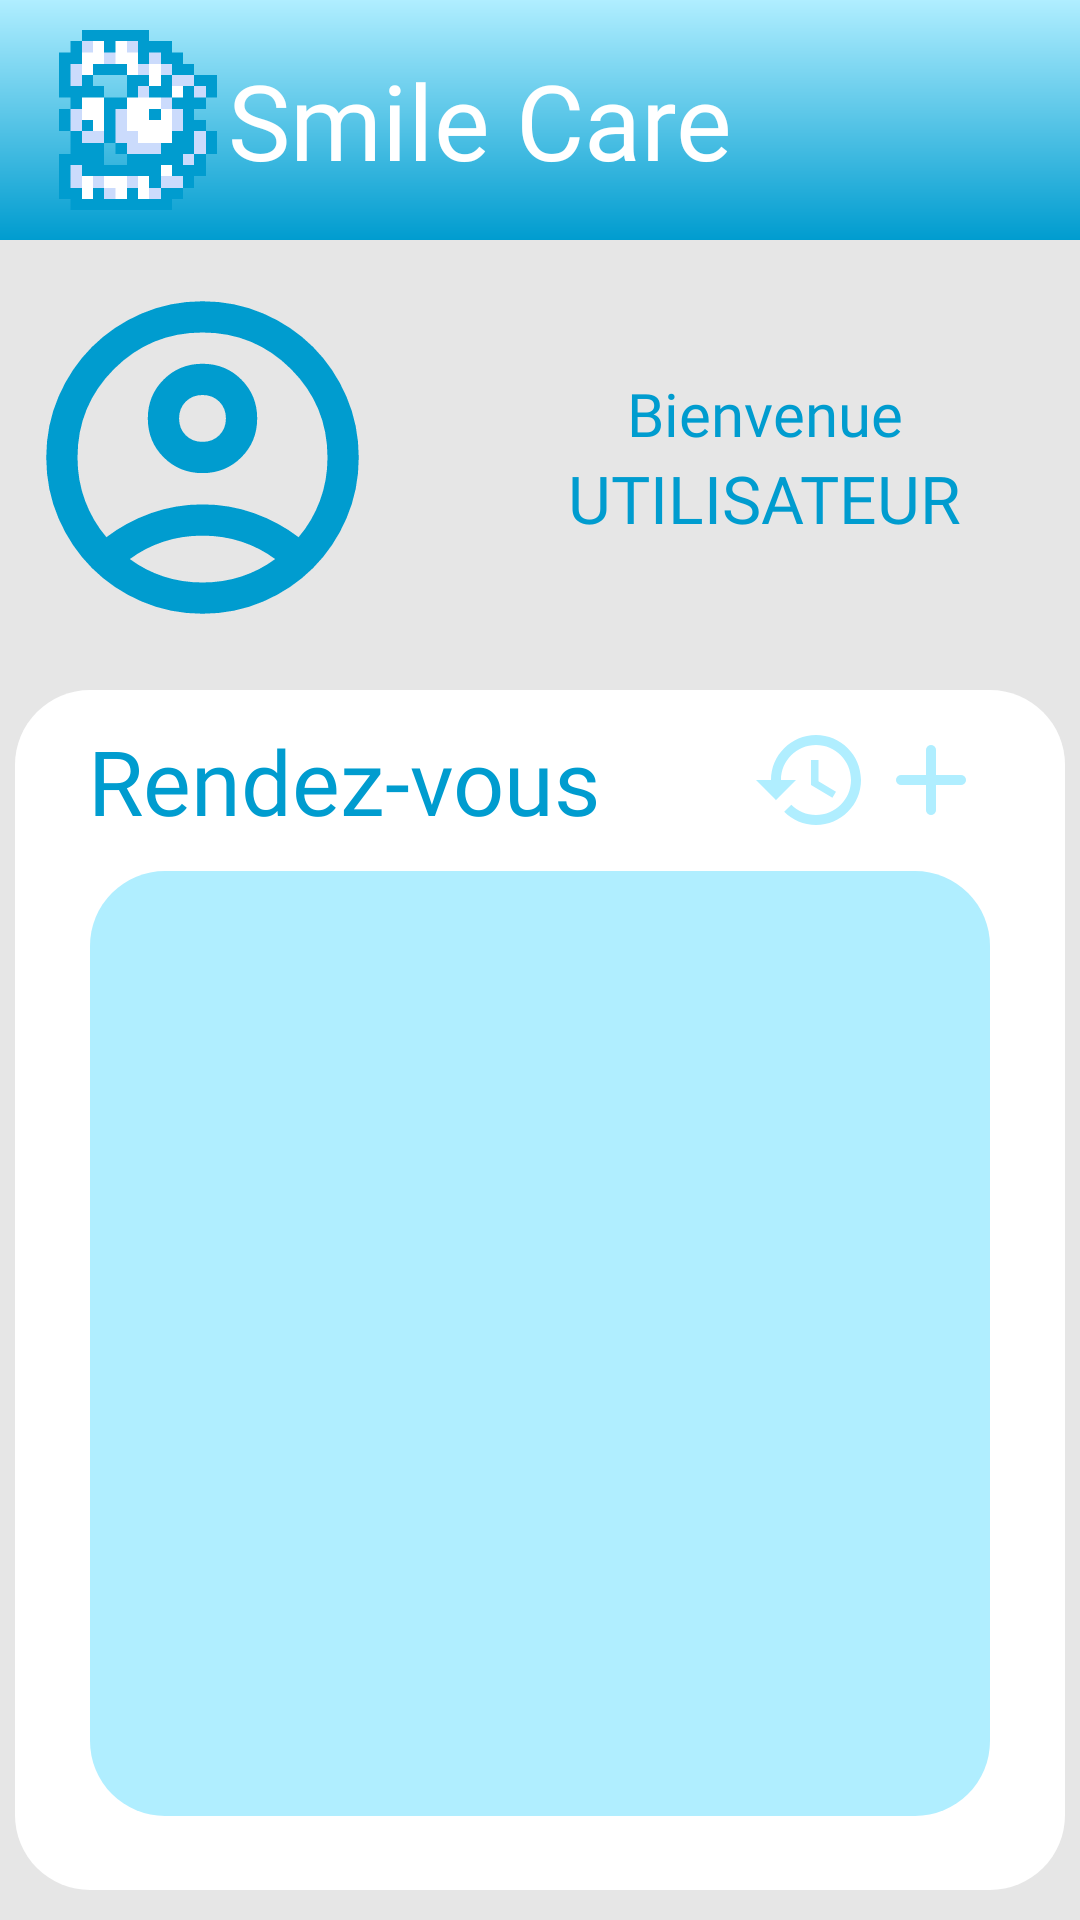

Named icons in this screenshot (1080 × 1920) and their bounding boxes, bbox=[x1, y1, x2, y2]:
account: bbox=[46, 301, 359, 614]
add: bbox=[896, 745, 966, 815]
history: bbox=[756, 735, 861, 825]
